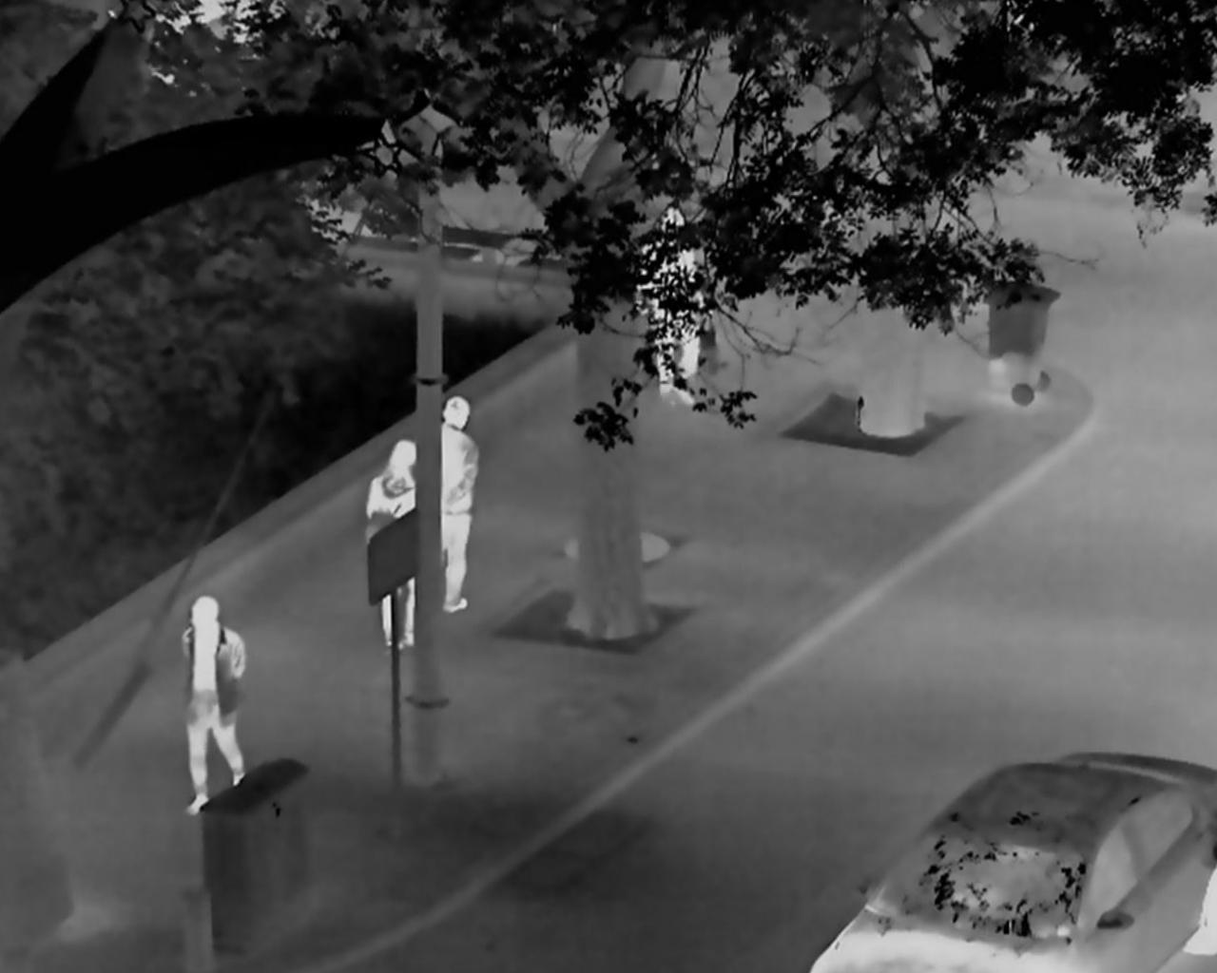person: (631, 201, 705, 405), (180, 594, 246, 816), (365, 438, 416, 652), (441, 392, 479, 614)
